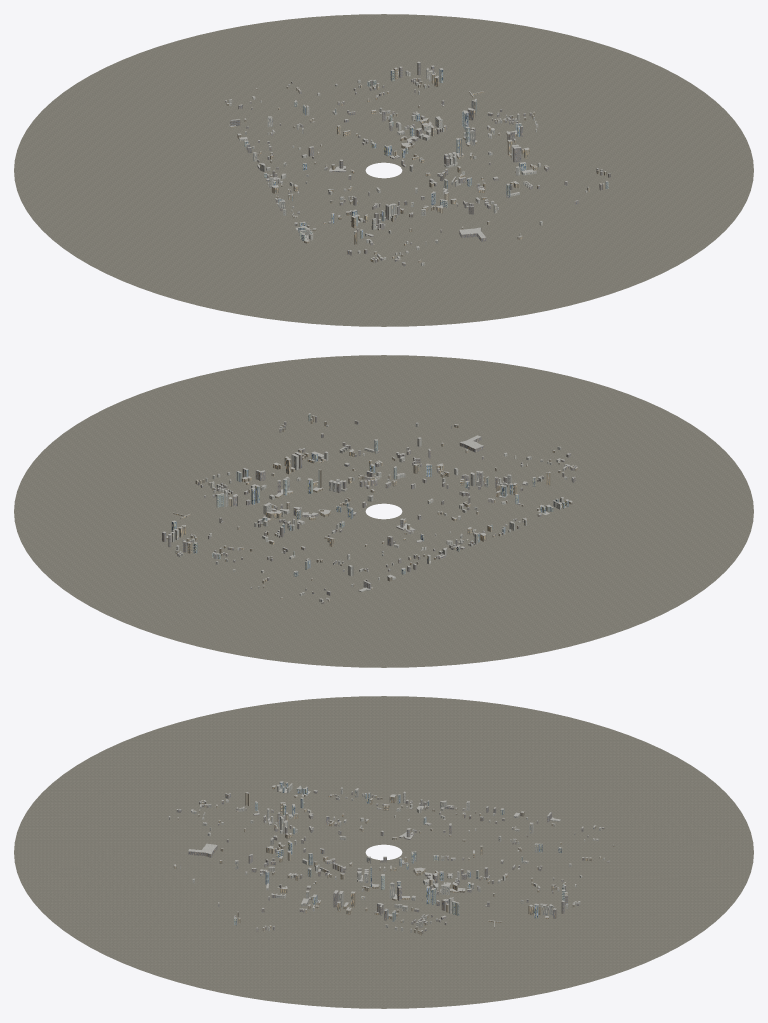
File: far.glb
3 renders of one model, top to bottom at view 1: azimuth 30°, elevation 25°; view 2: azimuth 150°, elevation 25°; view 3: azimuth 270°, elevation 25°, orthographic.
Parts seen in each view (by area): view 1: far_ground, far_roof, far_band, far_plaster, far_stone, far_glass; view 2: far_ground, far_roof, far_band, far_plaster, far_stone, far_glass; view 3: far_ground, far_roof, far_band, far_plaster, far_stone, far_glass.
Boxes of the visible parts, <box> form: far_ground: <box>14,14,753,326</box>; far_roof: <box>225,61,610,263</box>; far_band: <box>225,63,610,266</box>; far_plaster: <box>228,68,602,266</box>; far_stone: <box>226,68,606,262</box>; far_glass: <box>244,68,608,240</box>; far_ground: <box>14,355,753,667</box>; far_roof: <box>162,413,577,602</box>; far_band: <box>162,416,576,603</box>; far_plaster: <box>169,423,567,601</box>; far_stone: <box>166,416,577,601</box>; far_glass: <box>171,414,568,576</box>; far_ground: <box>14,696,753,1008</box>; far_roof: <box>169,781,614,931</box>; far_band: <box>176,791,609,933</box>; far_plaster: <box>168,784,604,932</box>; far_stone: <box>173,786,614,935</box>; far_glass: <box>234,782,565,925</box>.
Bounding box in the file's own units: 8000 × 300 × 8000.
6 materials, 6 textured.
